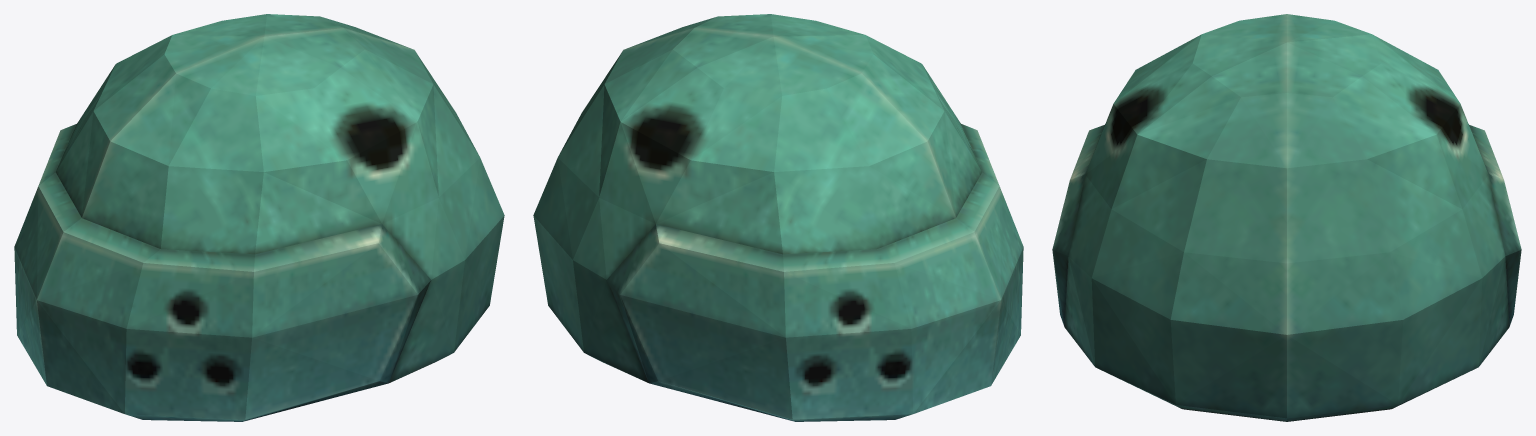
Rendered from Panda_strikeHelmet.obj.
3 views of the same model, side by side, from view 1: azimuth 30°, elevation 25°; view 2: azimuth 150°, elevation 25°; view 3: azimuth 270°, elevation 25° (orthographic). The views are drawn at different scales.
Visible parts, largest first — view 1: Panda_strikeHelmet_tri; view 2: Panda_strikeHelmet_tri; view 3: Panda_strikeHelmet_tri.
Boxes of the visible parts, x1,y1,x2,y2 form: Panda_strikeHelmet_tri: (14,14,504,421); Panda_strikeHelmet_tri: (533,14,1023,421); Panda_strikeHelmet_tri: (1052,14,1521,421).
Bounding box in the file's own units: 0.4407 × 0.292 × 0.3952.
Materials: 1 (1 with a texture image).
